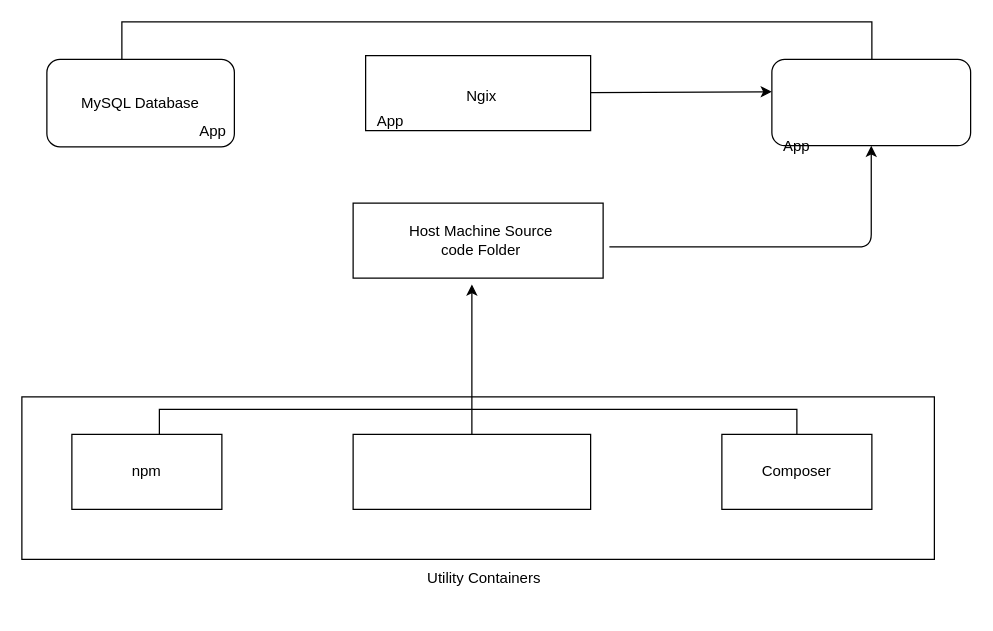
This 993x631 diagram has some shape labels left out. The centre of each missing label's shape, as x and y in pixels:
laravel Artisan: point 471,471
PHP Interpreter: point 871,102
